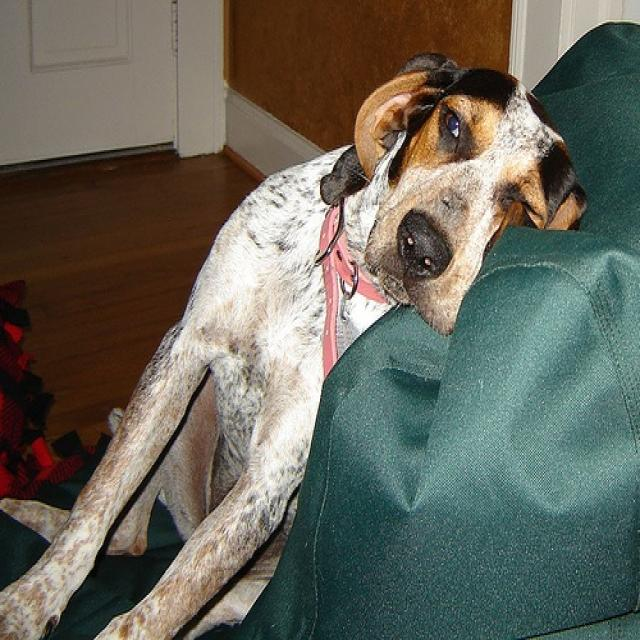dog: (0, 50, 589, 638)
